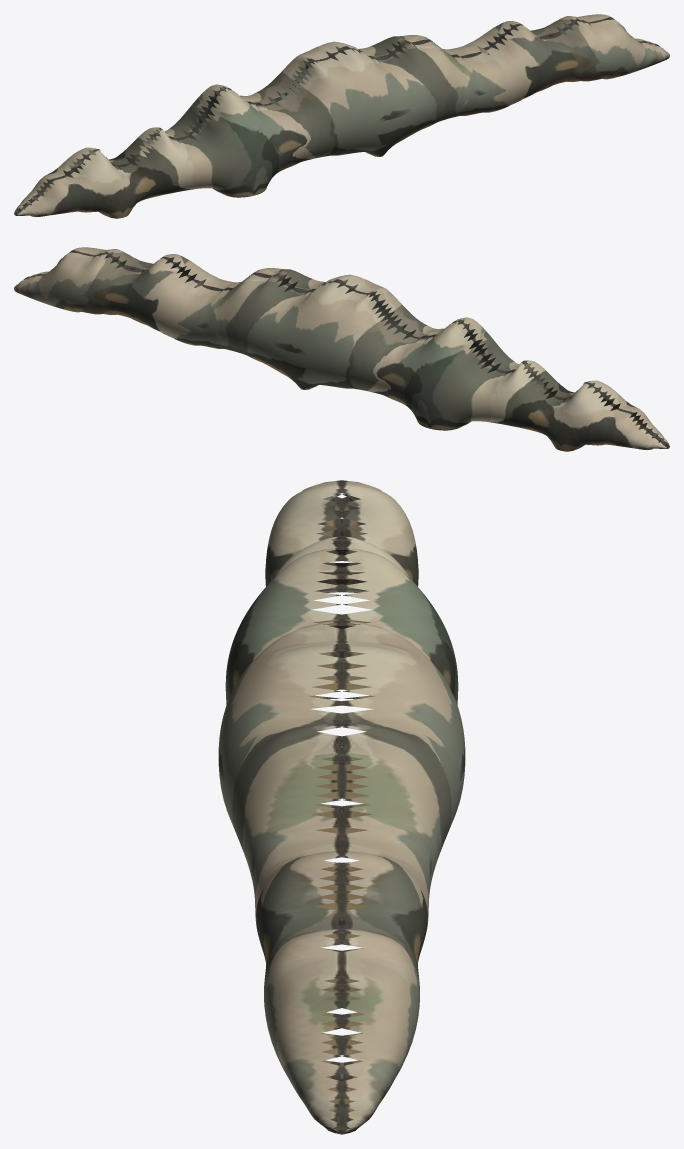
Rendered from ridge.glb.
The picture shows the model from 3 angles, top to bottom: view 1: azimuth 30°, elevation 25°; view 2: azimuth 150°, elevation 25°; view 3: azimuth 270°, elevation 25°; orthographic projection. The views are drawn at different scales.
Visible parts, largest first — view 1: ridge; view 2: ridge; view 3: ridge.
Boxes of the visible parts, <box> form: ridge: <box>14,14,669,218</box>; ridge: <box>14,247,669,451</box>; ridge: <box>218,480,465,1134</box>.
Bounding box in the file's own units: 0.98 × 0.1397 × 0.1602.
Materials: 1 (1 with a texture image).
